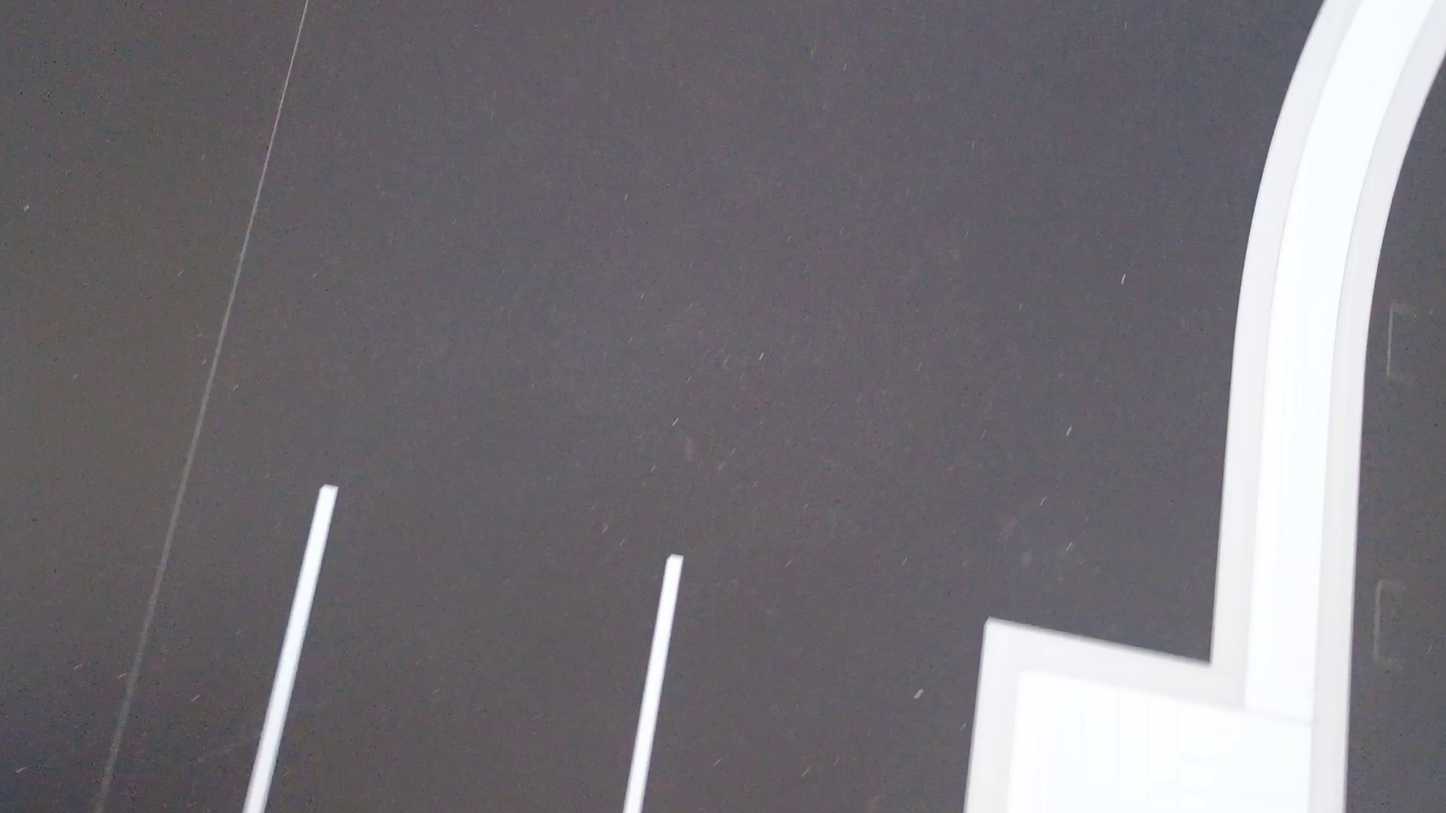Solid: (243, 486, 337, 812), (624, 555, 682, 812)
Street: (0, 0, 1319, 812), (1348, 73, 1445, 812)
